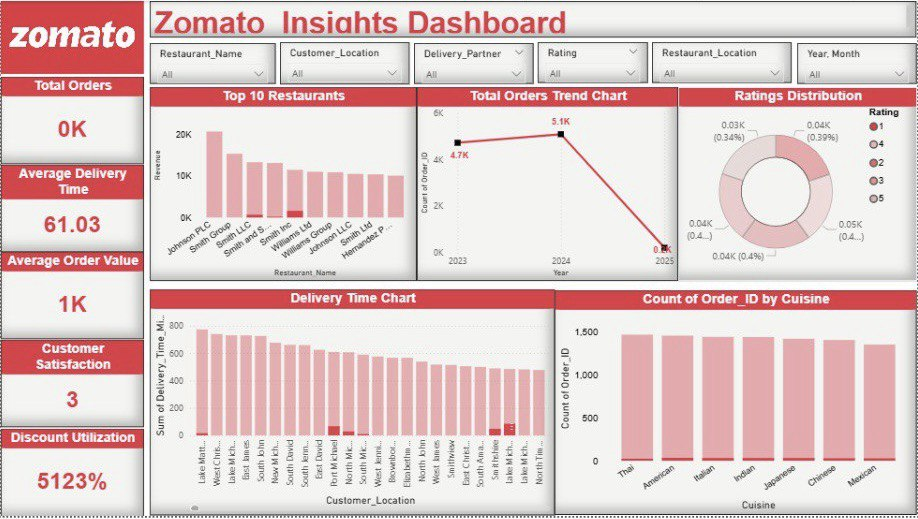

The dashboard page shown, as its layout file describes it:
{"tool":"powerbi","page":{"name":"Page 1","canvas":[1280,720],"ordinal":0},"visuals":[{"type":"card","title":"Total Orders ","fields":{"Values":["CountNonNull(Sheet1.Order_ID)"]},"box":[0,106.6,200.2,122.4],"z":0},{"type":"card","title":"Average Delivery Time ","fields":{"Values":["Avg(Sheet1.Delivery_Time_Minutes)"]},"box":[0,229,200.2,122.4],"z":1000},{"type":"card","title":"Average Order Value ","fields":{"Values":["Avg(Sheet1.Order_Amount)"]},"box":[0,351.4,200.2,122.4],"z":2000},{"type":"card","title":"Customer Satisfaction ","fields":{"Values":["Avg(Sheet1.Rating)"]},"box":[0,473.8,200.2,122.4],"z":3000},{"type":"card","title":"Discount Utilization ","fields":{"Values":["Sheet1.Discount utilization %"]},"box":[0,597.6,200.2,123.8],"z":4000},{"type":"lineChart","title":"Total Orders Trend Chart","fields":{"Category":["Sheet1.Order_Date.Variation.Date Hierarchy.Year","Sheet1.Order_Date.Variation.Date Hierarchy.Month"],"Y":["CountNonNull(Sheet1.Order_ID)"]},"box":[581.2,120,365,271.2],"z":5000},{"type":"clusteredColumnChart","title":"Delivery Time Chart","fields":{"Category":["Sheet1.Customer_Location"],"Y":["Sum(Sheet1.Delivery_Time_Minutes)"]},"box":[208.8,403.8,566.2,316.2],"z":6000},{"type":"clusteredColumnChart","title":"Top 10 Restaurants ","fields":{"Category":["Sheet1.Restaurant_Name"],"Y":["Sheet1.Revenue"]},"box":[208.8,120,372.5,271.2],"z":7000},{"type":"donutChart","title":"Ratings Distribution","fields":{"Y":["CountNonNull(Sheet1.Order_ID)"],"Category":["Sheet1.Rating"]},"box":[946.2,120,333.8,271.2],"z":7001},{"type":"columnChart","fields":{"Category":["Sheet1.Cuisine"],"Y":["CountNonNull(Sheet1.Order_ID)"]},"box":[774.7,403.2,505.4,315.4],"z":7002},{"type":"textbox","box":[208.8,0,1071.2,51.2],"z":7003},{"type":"image","box":[0,0,200,101.5],"z":7004},{"type":"slicer","fields":{"Values":["Sheet1.Restaurant_Name"]},"box":[208.6,58.6,176.4,57.1],"z":7005},{"type":"slicer","fields":{"Values":["Sheet1.Customer_Location"]},"box":[390,57.1,180.7,58.6],"z":7006},{"type":"slicer","fields":{"Values":["Sheet1.Delivery_Partner"]},"box":[577.1,58.6,167.1,57.1],"z":7007},{"type":"slicer","fields":{"Values":["Sheet1.Rating"]},"box":[750,57.3,153.6,57.3],"z":7008},{"type":"slicer","fields":{"Values":["Sheet1.Restaurant_Location"]},"box":[910,57.3,195.5,57.3],"z":7009},{"type":"slicer","fields":{"Values":["Sheet1.Order_Date.Variation.Date Hierarchy.Year","Sheet1.Order_Date.Variation.Date Hierarchy.Month"]},"box":[1112.7,58.7,166.7,57.1],"z":7010}]}

Visuals, with their boxes in screenshot pixels (x1, y1, x2, y2), scaled from the page's 1280x720 canvas onto the 918x519 screenshot:
"Total Orders " card: bbox=(0, 77, 144, 165)
"Average Delivery Time " card: bbox=(0, 165, 144, 253)
"Average Order Value " card: bbox=(0, 253, 144, 342)
"Customer Satisfaction " card: bbox=(0, 342, 144, 430)
"Discount Utilization " card: bbox=(0, 431, 144, 518)
"Total Orders Trend Chart" lineChart: bbox=(417, 86, 679, 282)
"Delivery Time Chart" clusteredColumnChart: bbox=(150, 291, 556, 518)
"Top 10 Restaurants " clusteredColumnChart: bbox=(150, 86, 417, 282)
"Ratings Distribution" donutChart: bbox=(679, 86, 917, 282)
columnChart - Sheet1.Cuisine x CountNonNull(Sheet1.Order_ID): bbox=(556, 291, 917, 518)
textbox: bbox=(150, 0, 917, 37)
image: bbox=(0, 0, 143, 73)
slicer - Sheet1.Restaurant_Name: bbox=(150, 42, 276, 83)
slicer - Sheet1.Customer_Location: bbox=(280, 41, 409, 83)
slicer - Sheet1.Delivery_Partner: bbox=(414, 42, 534, 83)
slicer - Sheet1.Rating: bbox=(538, 41, 648, 83)
slicer - Sheet1.Restaurant_Location: bbox=(653, 41, 793, 83)
slicer - Sheet1.Order_Date.Variation.Date Hierarchy.Year x Sheet1.Order_Date.Variation.Date Hierarchy.Month: bbox=(798, 42, 917, 83)
